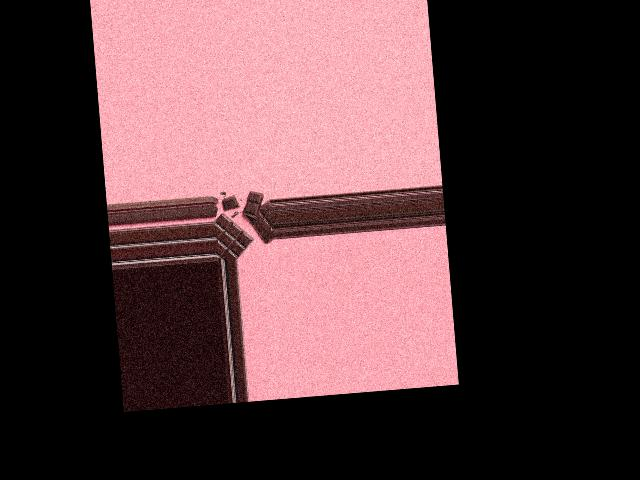chocolate: (212, 193, 271, 261)
